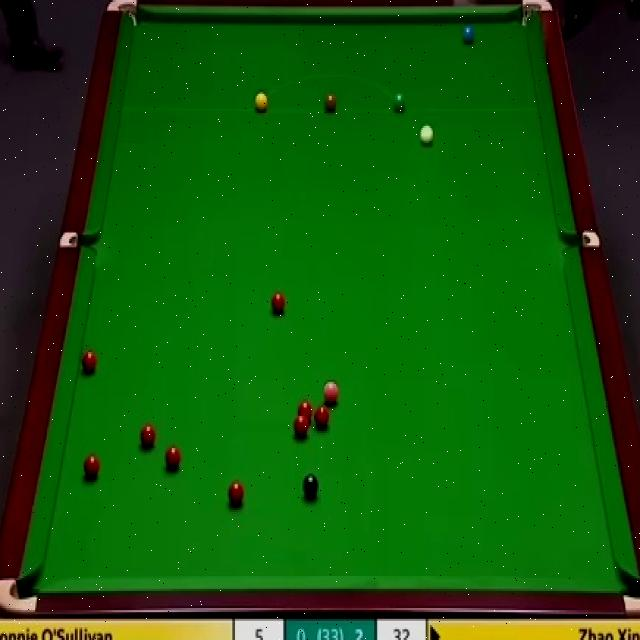black-ball: (302, 473, 320, 501)
blue-ball: (460, 20, 477, 46)
brown-ball: (324, 92, 338, 114)
green-ball: (392, 92, 407, 115)
pink-ball: (320, 381, 339, 406)
red-ball: (82, 453, 101, 482), (163, 444, 182, 470), (227, 480, 245, 507), (139, 424, 156, 452), (292, 414, 310, 440), (270, 290, 287, 316), (313, 404, 331, 428), (80, 349, 96, 375), (296, 400, 314, 422)
white-ball: (418, 122, 436, 148)
yellow-ball: (254, 91, 269, 113)
